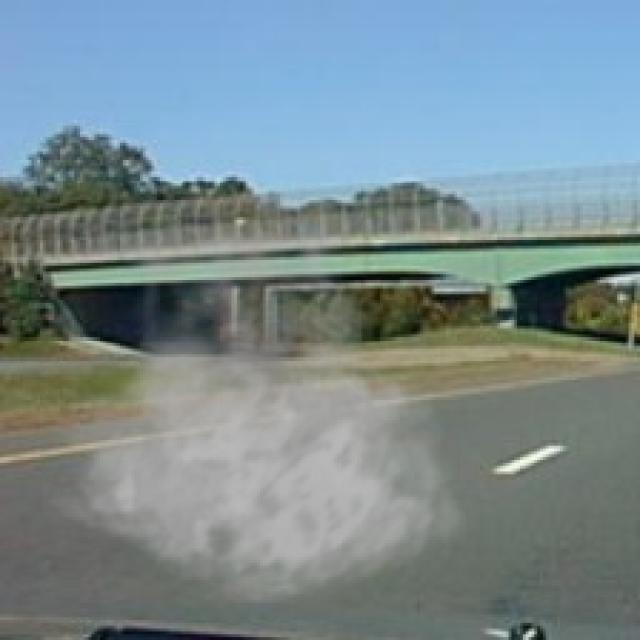smoke: (43, 191, 466, 606)
